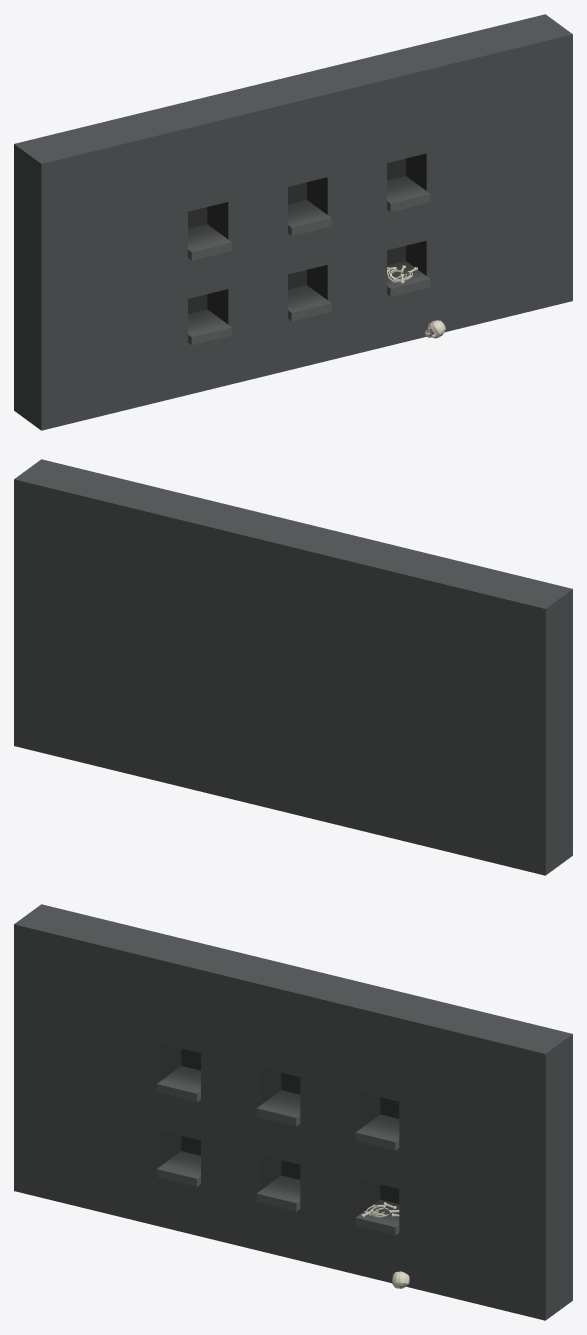
The model's file is CatacombV2.obj.
3 views of the same model, one above another, from view 1: azimuth 30°, elevation 25°; view 2: azimuth 150°, elevation 25°; view 3: azimuth 330°, elevation 25° (orthographic).
Parts seen in each view (by area): view 1: pillar:CatacombV2; view 2: pillar:CatacombV2; view 3: pillar:CatacombV2.
Boxes of the visible parts, x1=… form: pillar:CatacombV2: x1=14, y1=14, x2=572, y2=430; pillar:CatacombV2: x1=14, y1=459, x2=572, y2=875; pillar:CatacombV2: x1=14, y1=904, x2=572, y2=1320.
Bounding box in the file's own units: 53.56 × 25.68 × 6.35.
